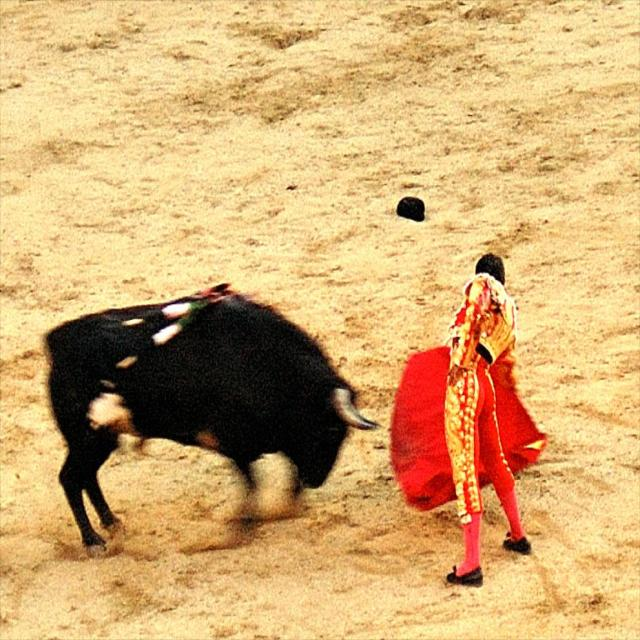Deer: (44, 278, 380, 539)
